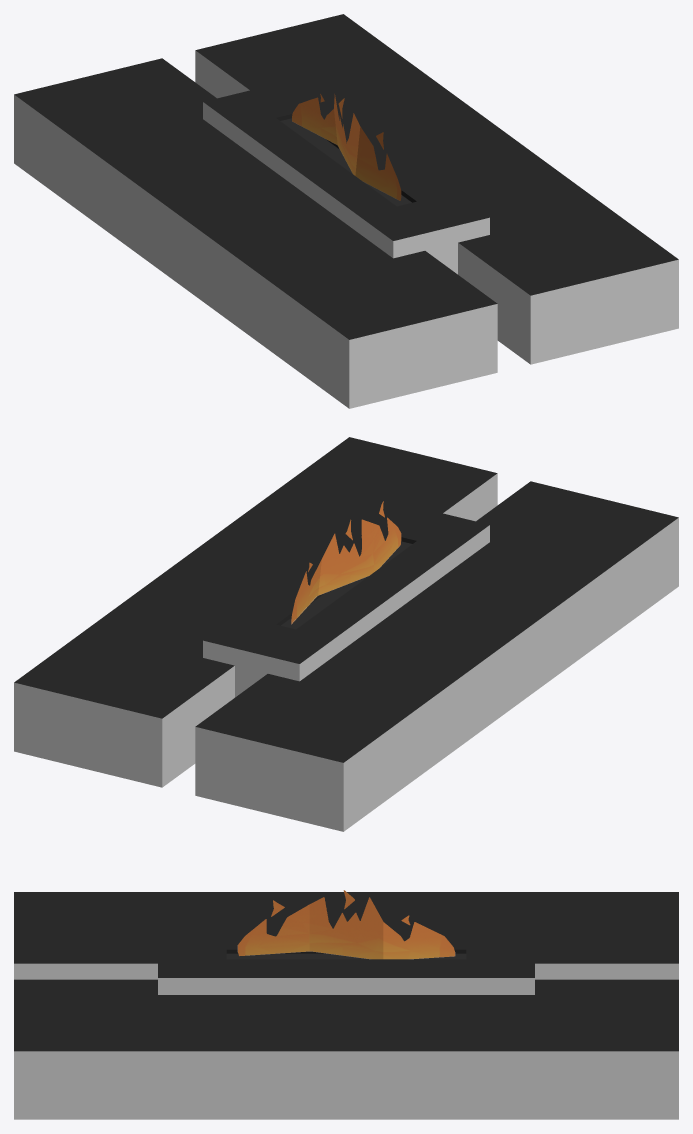
File: Fireplace_001.fbx
The picture shows the model from 3 angles, top to bottom: view 1: azimuth 30°, elevation 25°; view 2: azimuth 150°, elevation 25°; view 3: azimuth 270°, elevation 25°; orthographic projection.
Visible parts, largest first — view 1: Fireplace_001; view 2: Fireplace_001; view 3: Fireplace_001.
Boxes of the visible parts, box(x1,y1,x2,y2) form: Fireplace_001: box(14, 14, 678, 408); Fireplace_001: box(14, 437, 678, 831); Fireplace_001: box(14, 890, 678, 1119).
Size of the model in its own units: 200 by 105 by 353.
